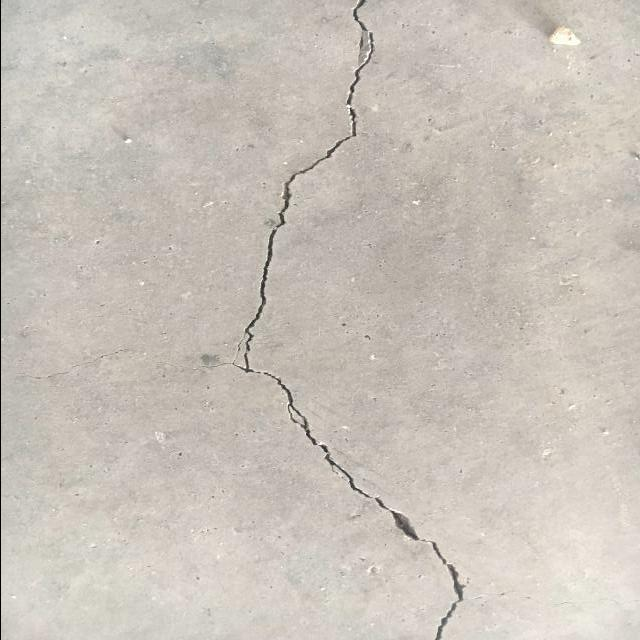SurfaceCrack: (210, 0, 503, 639)
